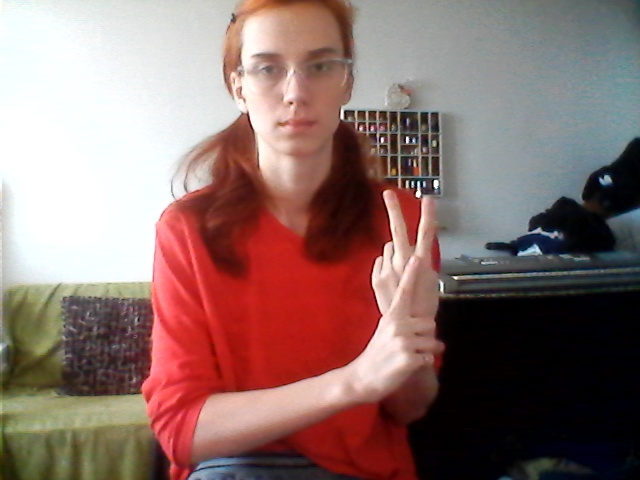y: (339, 182, 460, 407)
